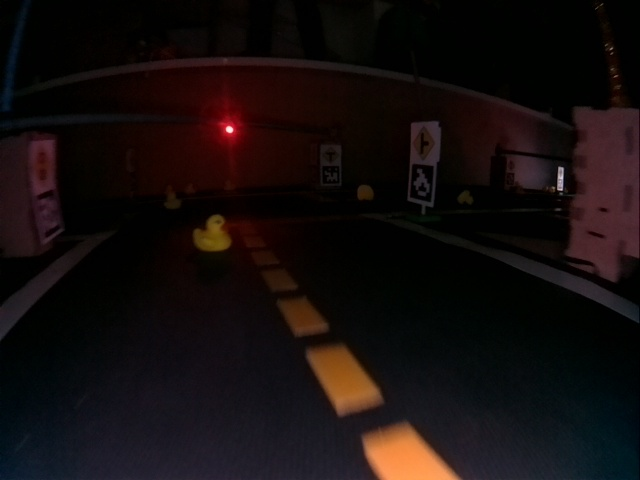Duckie: (194, 214, 228, 247), (357, 185, 374, 200), (457, 191, 473, 206), (166, 192, 177, 209)
Intersection sign: (412, 126, 435, 161), (322, 147, 340, 163)
QR code: (35, 191, 61, 240), (410, 165, 434, 204), (321, 166, 340, 185)
Signal sign: (29, 146, 53, 182)
Traffic light: (221, 119, 237, 137)
